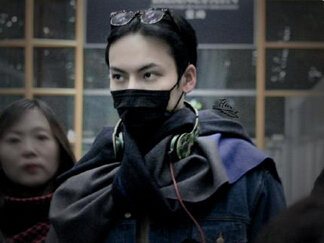face: (1, 111, 57, 184)
face_mask: (106, 36, 180, 123)
